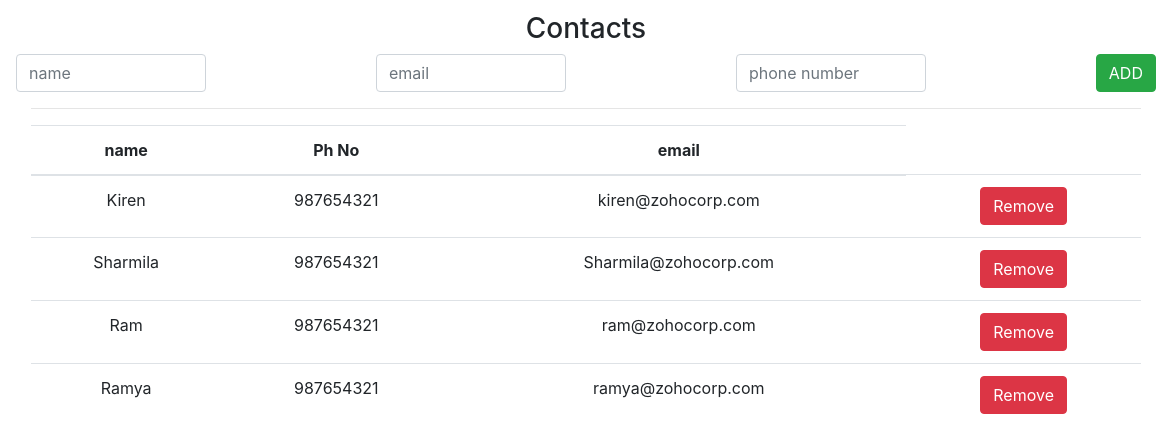
Test: Contact will be deleted when the delete button is clicked
The image size is (1173, 431).
Click the button "Remove" in the row of "ramya@zohocorp.com": x=1024, y=395 x1=980 y1=376 x2=1067 y2=414
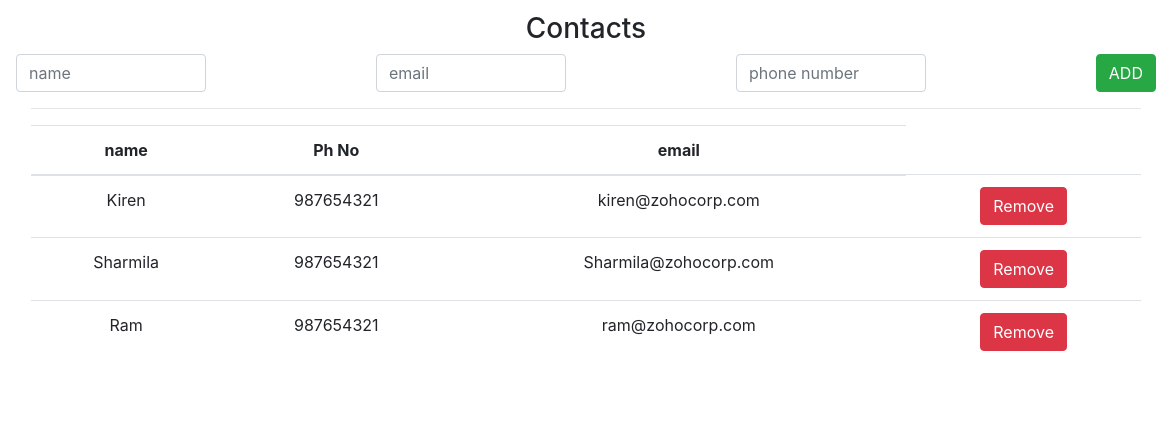
Now the cell "ramya@zohocorp.com" is gone
